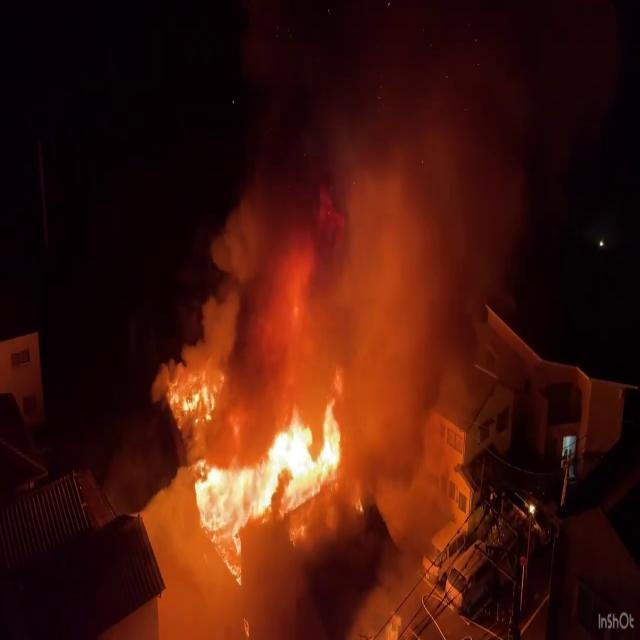Fire: (180, 388, 350, 567)
Smoke: (168, 24, 498, 438)
